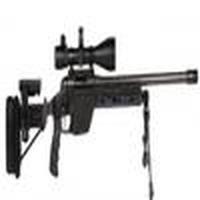gun: (4, 39, 199, 176)
